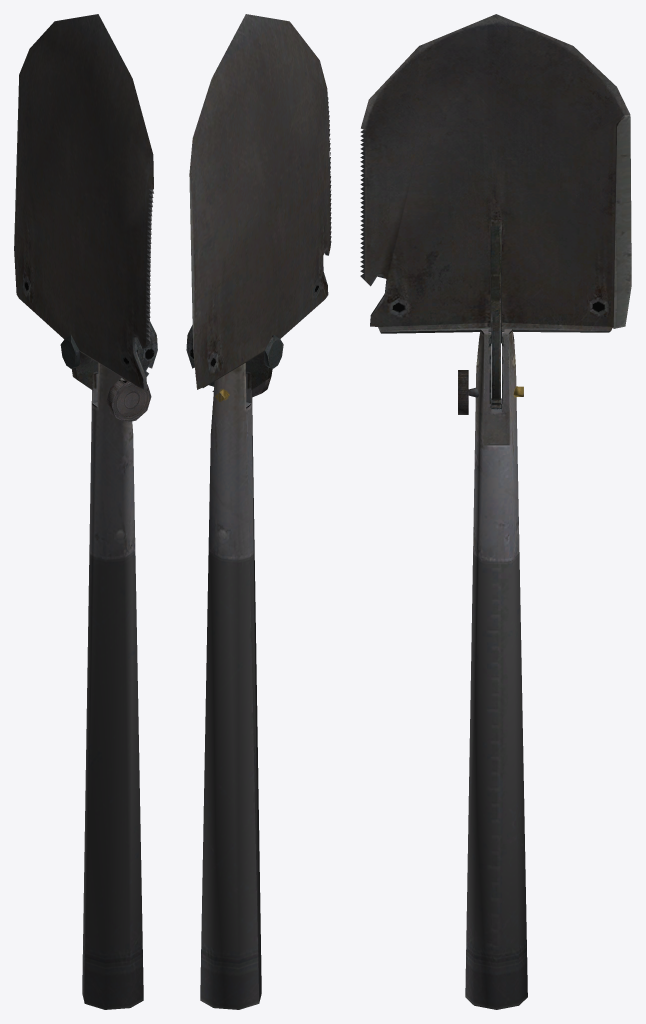
The model's file is Melee_Prop_jq_Main_(000348).glb.
3 renders of one model, left to right at view 1: azimuth 30°, elevation 25°; view 2: azimuth 150°, elevation 25°; view 3: azimuth 270°, elevation 25°, orthographic.
Visible parts, largest first — view 1: jq; view 2: jq; view 3: jq.
Part boxes in pixels (x1,y1,x2,y2): jq: (14, 14, 157, 1009); jq: (186, 14, 331, 1009); jq: (360, 14, 631, 1009).
Bounding box in the file's own units: 0.0702 × 0.762 × 0.1924.
1 material, 1 textured.
